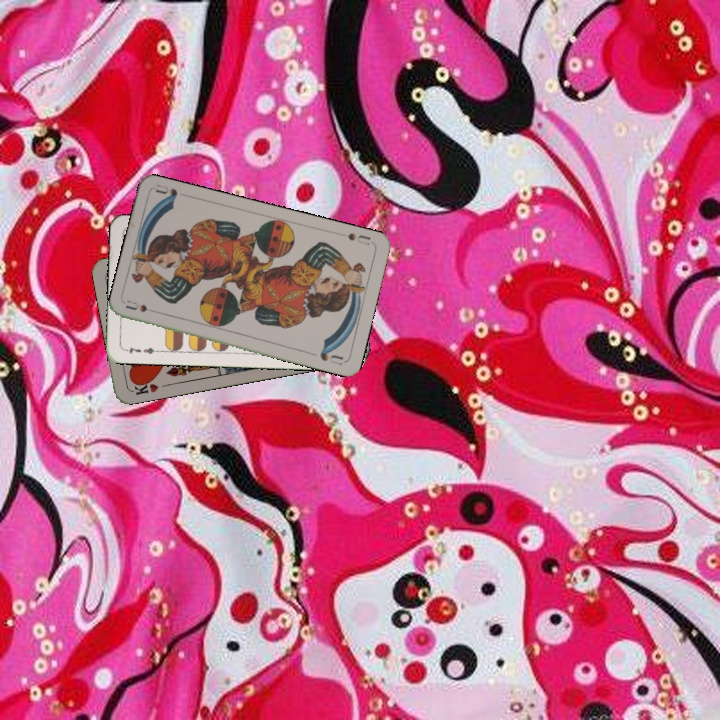E7: (120, 342, 161, 356)
HK: (128, 376, 161, 397)
SU: (122, 296, 163, 317), (344, 229, 373, 248)
